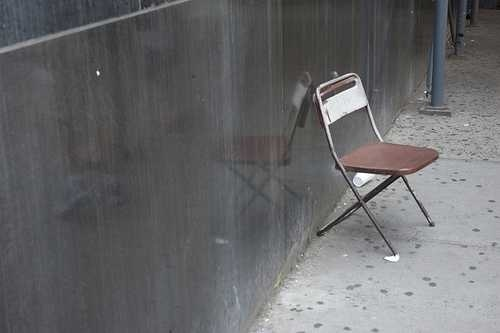obstacle: (313, 73, 438, 261)
